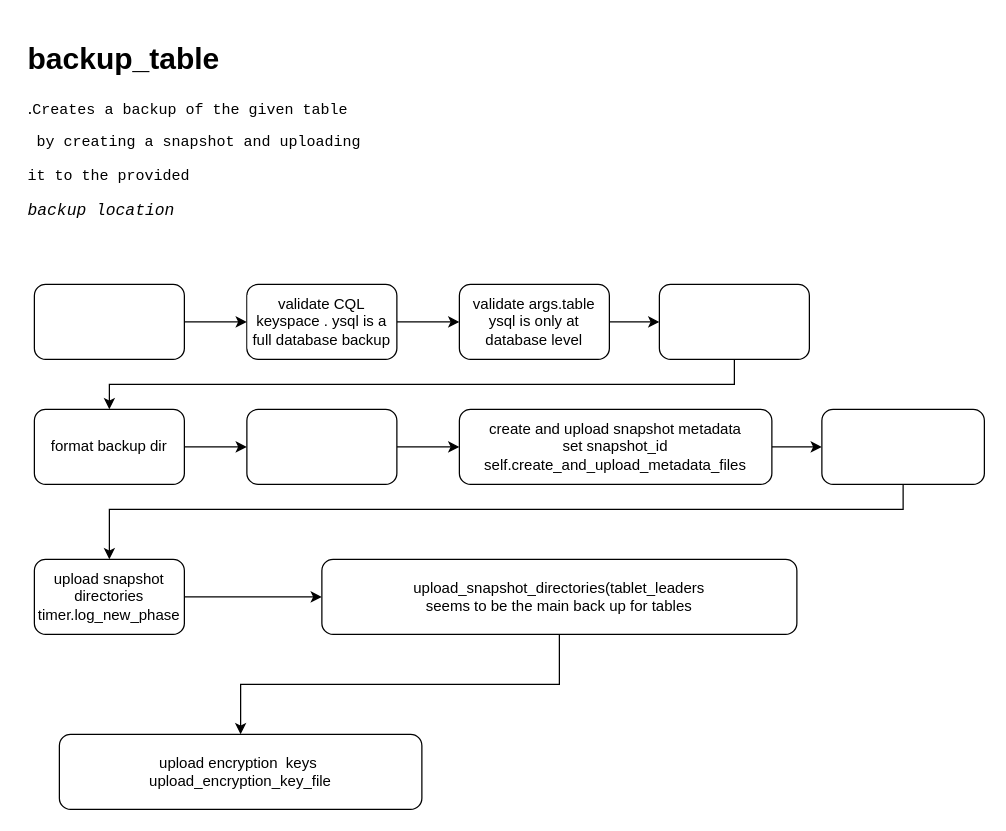
The diagram is 1006 pixels wide and 831 high, and some of its shapes have lost their labels. The centre of each missing label's shape, as x and y in pixels:
"check backup location" belongs at pixel 733 321.
"find tablet leaders self.find_tablet_leaders" belongs at pixel 902 446.
"Need to check args.keyspace for specific keyspace" belongs at pixel 108 321.
"setup backup bucket" belongs at pixel 321 446.
